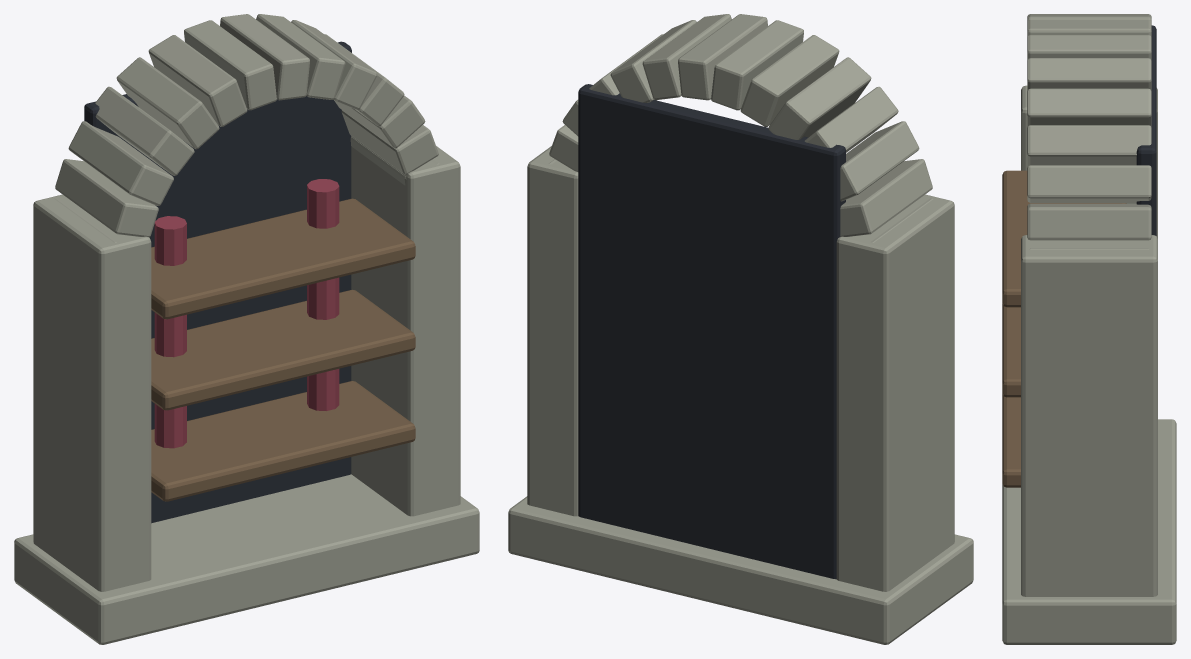
The model's file is d5_niche.glb.
3 renders of one model, left to right at view 1: azimuth 30°, elevation 25°; view 2: azimuth 150°, elevation 25°; view 3: azimuth 270°, elevation 25°, orthographic.
Parts seen in each view (by area): view 1: Body.017; view 2: Body.017; view 3: Body.017.
Part boxes in pixels (x1=…): Body.017: x1=14, y1=14, x2=479, y2=644; Body.017: x1=508, y1=14, x2=973, y2=644; Body.017: x1=1002, y1=14, x2=1176, y2=644.
Bounding box in the file's own units: 1.75 × 2.32 × 0.7.
